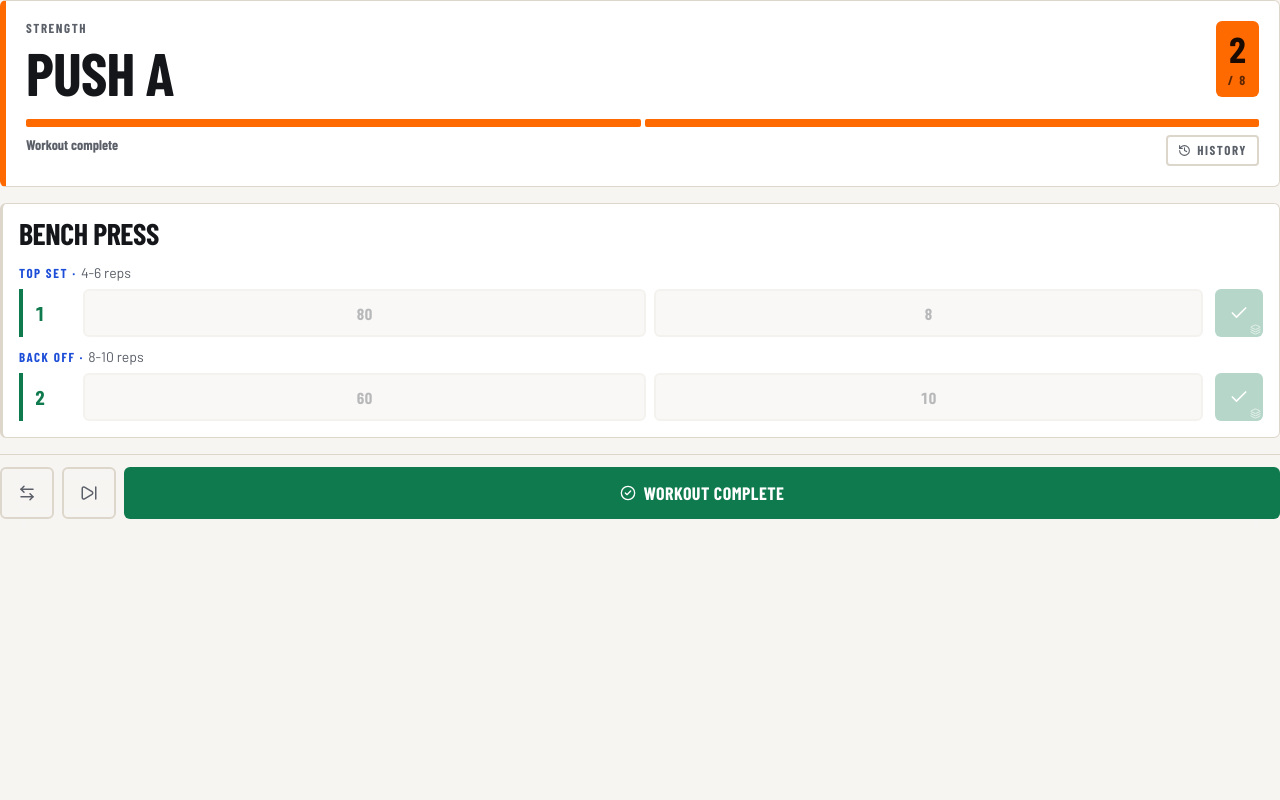
Scenario: TodayWorkout › leaves the day done in full out when changing day
Click the button named "Change day".
click(27, 493)  # box [0,467,54,519]
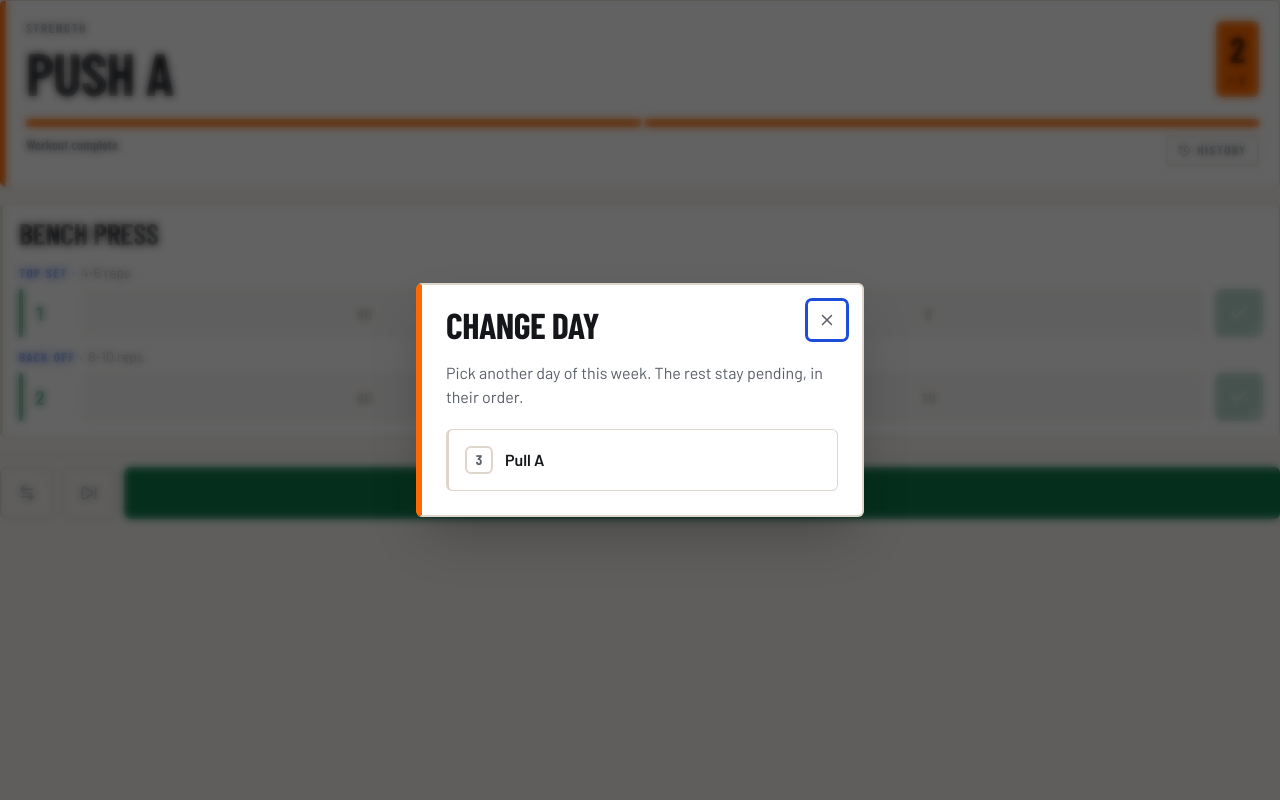
Expected: the button "3 Pull A" is enabled, [446,429,838,491]
